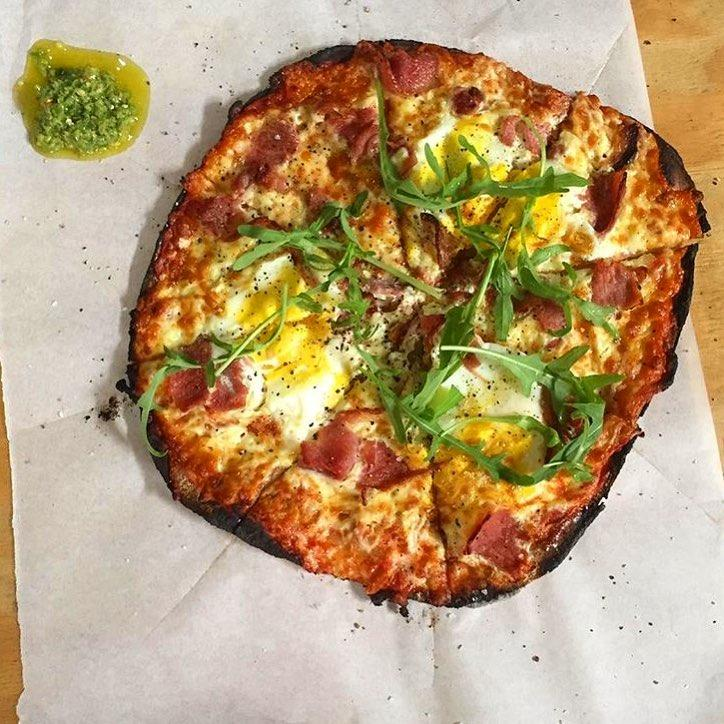Arugula: (141, 300, 291, 452), (230, 215, 451, 310), (374, 137, 590, 215), (495, 352, 623, 482), (350, 328, 450, 459), (506, 242, 621, 349), (423, 411, 563, 494), (447, 222, 521, 374), (371, 64, 395, 139)
Ham: (299, 413, 412, 494), (171, 355, 251, 418), (583, 253, 652, 315), (467, 509, 527, 578), (575, 166, 625, 244), (323, 106, 389, 164), (377, 48, 443, 100), (190, 199, 262, 242), (511, 291, 571, 332), (245, 125, 302, 165), (497, 110, 552, 151), (414, 309, 454, 358), (362, 272, 401, 312)
Pizza: (136, 32, 698, 612)
